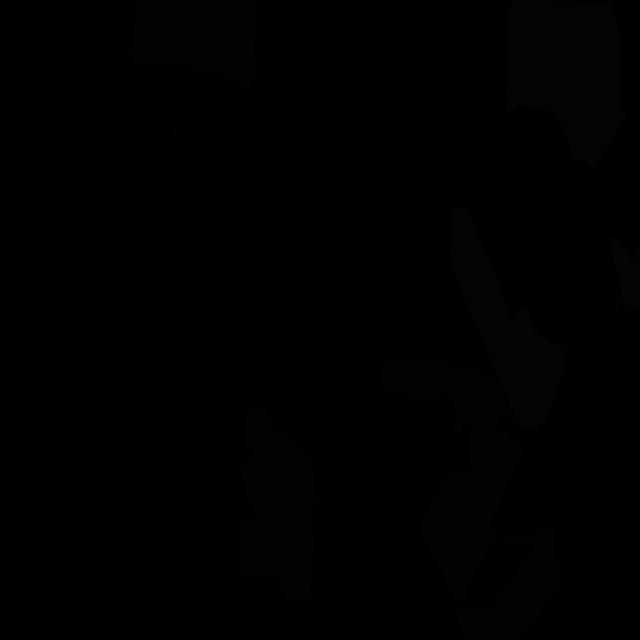cardboard: (416, 427, 562, 640), (238, 401, 318, 605), (380, 354, 520, 438), (130, 0, 256, 93)
rigid_plastic: (526, 222, 622, 378), (135, 65, 227, 150)
soft_plastic: (448, 207, 566, 428), (505, 0, 627, 167), (608, 237, 640, 311)
